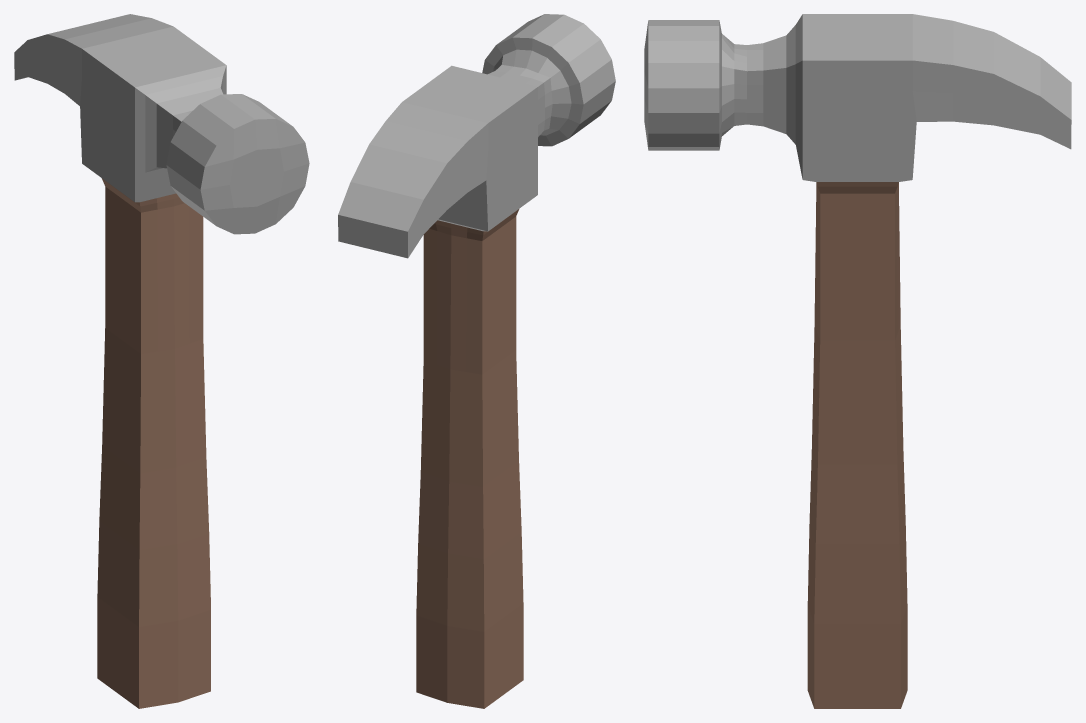
Rendered from Hammer.fbx.
3 renders of one model, left to right at view 1: azimuth 30°, elevation 25°; view 2: azimuth 150°, elevation 25°; view 3: azimuth 270°, elevation 25°, orthographic. The views are drawn at different scales.
Visible parts, largest first — view 1: Hammer; view 2: Hammer; view 3: Hammer.
Boxes of the visible parts, x1,y1,x2,y2 form: Hammer: (14,14,309,708); Hammer: (338,14,615,708); Hammer: (644,14,1071,708).
Size of the model in its own units: 0.0832 by 0.466 by 0.2713.
